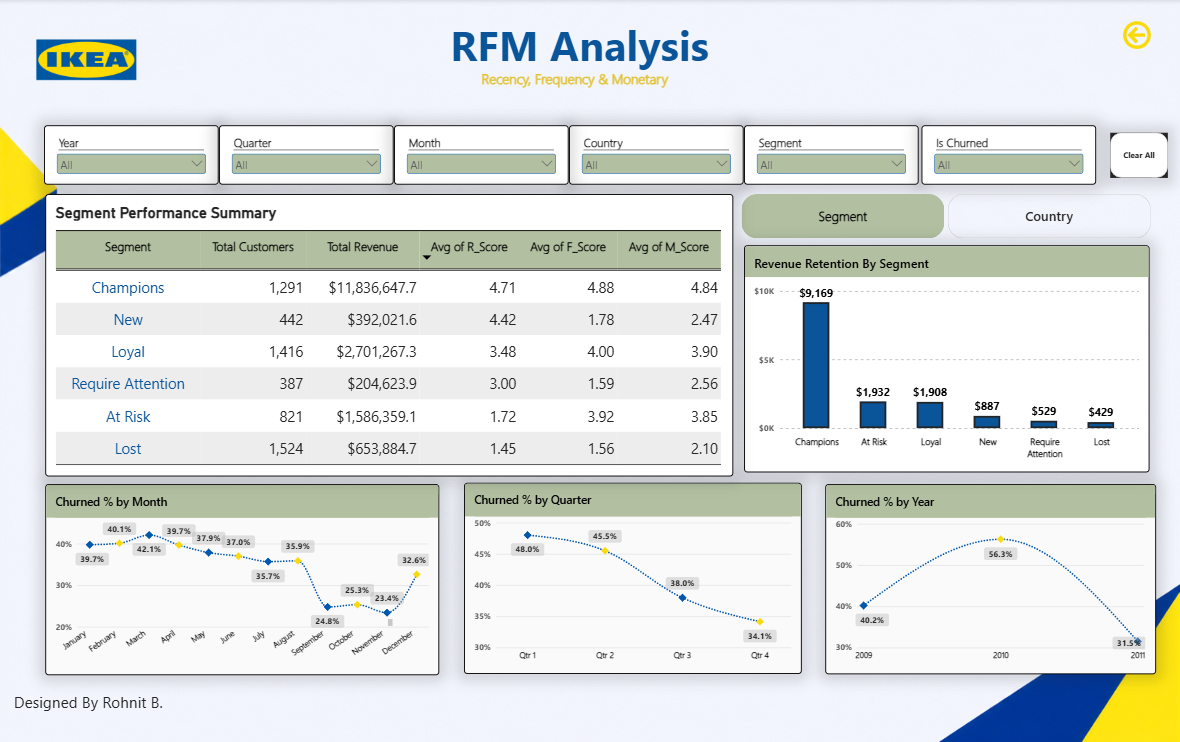

What the dashboard file says about the page in this screenshot:
{"tool":"powerbi","page":{"name":"Page 3","canvas":[2050,1295],"ordinal":2},"visuals":[{"type":"slicer","fields":{"Values":["Sales_Data.invoice_date.Variation.Date Hierarchy.Year"]},"box":[78,220,303.3,103.3],"z":0},{"type":"columnChart","title":"Revenue Retention By Segment","fields":{"Category":["Sales_Data.segment"],"Y":["Sales_Data.Avg Customer Value"]},"box":[1294,428,704,394],"z":0,"group":"g2"},{"type":"lineChart","fields":{"Category":["Sales_Data.invoice_date.Variation.Date Hierarchy.Month"],"Y":["Sales_Data.Churned %"]},"box":[80,842,684,332],"z":0,"group":"g1"},{"type":"slicer","fields":{"Values":["Sales_Data.invoice_date.Variation.Date Hierarchy.Quarter"]},"box":[382,220,303,103],"z":1000},{"type":"tableEx","title":"Segment Performance Summary","fields":{"Values":["Sales_Data.segment","Sales_Data.Total Customers","Sales_Data.Total Revenue","Avg(Sales_Data.R_Score)","Avg(Sales_Data.F_Score)","Avg(Sales_Data.M_Score)"]},"box":[80,338,1194,490],"z":1000,"group":"g2"},{"type":"lineChart","fields":{"Category":["Sales_Data.invoice_date.Variation.Date Hierarchy.Quarter"],"Y":["Sales_Data.Churned %"]},"box":[806,840,586,332],"z":1000,"group":"g1"},{"type":"slicer","fields":{"Values":["Sales_Data.country"]},"box":[990,220,303,103],"z":2000},{"type":"lineChart","fields":{"Category":["Sales_Data.invoice_date.Variation.Date Hierarchy.Year"],"Y":["Sales_Data.Churned %"]},"box":[1434,842,574,330],"z":2000,"group":"g1"},{"type":"slicer","fields":{"Values":["Sales_Data.invoice_date.Variation.Date Hierarchy.Month"]},"box":[686,220,303,103],"z":3000},{"type":"slicer","fields":{"Values":["Sales_Data.segment"]},"box":[1294,220,303,103],"z":4000},{"type":"slicer","fields":{"Values":["Sales_Data.ischurned"]},"box":[1602,220,303,103],"z":5000},{"type":"actionButton","box":[1930,232,100,78],"z":6000},{"type":"image","box":[0,30,303,150],"z":7000},{"type":"actionButton","box":[1900,0,150,125],"z":8000},{"type":"bookmarkNavigator","box":[1290,338,710,77.5],"z":10000},{"type":"group","id":"g1","title":"Customer","box":[80,840,1928,334],"z":11000},{"type":"textbox","box":[92,1076,592,12],"z":12000},{"type":"textbox","box":[26,1202,277.5,42.5],"z":13000},{"type":"textbox","box":[782.5,30,717.5,182.5],"z":14000},{"type":"textbox","box":[838,122,684,150],"z":15000},{"type":"group","id":"g2","title":"Segment","box":[80,338,1918,490],"z":16000}]}

Visuals, with their boxes in screenshot pixels (x1, y1, x2, y2), scaled from the page's 2050x1295 canvas onto the 1180x742 screenshot:
slicer - Sales_Data.invoice_date.Variation.Date Hierarchy.Year: left=45, top=126, right=219, bottom=185
"Revenue Retention By Segment" columnChart: left=745, top=245, right=1150, bottom=471
lineChart - Sales_Data.invoice_date.Variation.Date Hierarchy.Month x Sales_Data.Churned %: left=46, top=482, right=440, bottom=673
slicer - Sales_Data.invoice_date.Variation.Date Hierarchy.Quarter: left=220, top=126, right=394, bottom=185
"Segment Performance Summary" tableEx: left=46, top=194, right=733, bottom=474
lineChart - Sales_Data.invoice_date.Variation.Date Hierarchy.Quarter x Sales_Data.Churned %: left=464, top=481, right=801, bottom=672
slicer - Sales_Data.country: left=570, top=126, right=744, bottom=185
lineChart - Sales_Data.invoice_date.Variation.Date Hierarchy.Year x Sales_Data.Churned %: left=825, top=482, right=1156, bottom=672
slicer - Sales_Data.invoice_date.Variation.Date Hierarchy.Month: left=395, top=126, right=569, bottom=185
slicer - Sales_Data.segment: left=745, top=126, right=919, bottom=185
slicer - Sales_Data.ischurned: left=922, top=126, right=1097, bottom=185
actionButton: left=1111, top=133, right=1168, bottom=178
image: left=0, top=17, right=174, bottom=103
actionButton: left=1094, top=0, right=1179, bottom=72
bookmarkNavigator: left=743, top=194, right=1151, bottom=238
"Customer" group: left=46, top=481, right=1156, bottom=673
textbox: left=53, top=617, right=394, bottom=623
textbox: left=15, top=689, right=175, bottom=713
textbox: left=450, top=17, right=863, bottom=122
textbox: left=482, top=70, right=876, bottom=156
"Segment" group: left=46, top=194, right=1150, bottom=474
